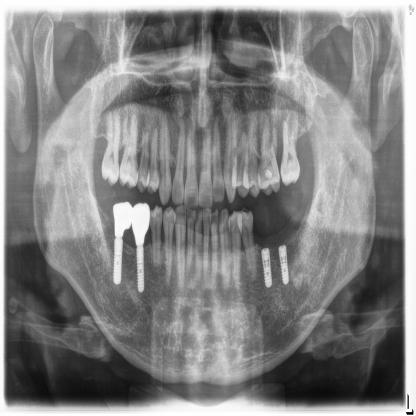ITI: (108, 235, 128, 290), (276, 241, 294, 291), (258, 246, 275, 294), (134, 244, 148, 298)
